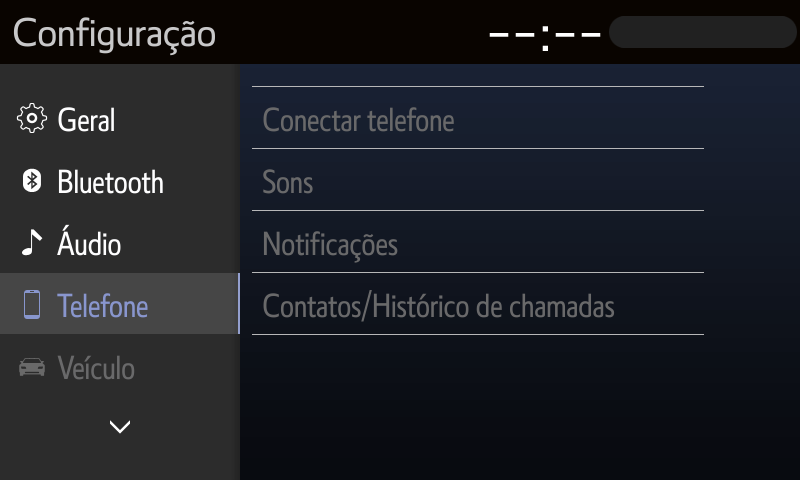touchPart: (19, 163, 172, 199), (18, 99, 132, 143), (19, 221, 122, 264), (97, 407, 139, 438)
untouchPart: (244, 268, 709, 344), (245, 79, 707, 154), (245, 145, 708, 218), (244, 207, 708, 279), (1, 270, 244, 339), (479, 13, 798, 54), (9, 16, 216, 55), (11, 350, 141, 392)
